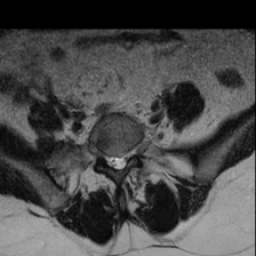CCS_severe_stenosis: (113, 149, 120, 176)
LFS_normal: (126, 141, 135, 166)
LLS_normal: (120, 150, 126, 174)
RFS_stenosis: (99, 143, 106, 168)
RLS_normal: (106, 149, 113, 171)
